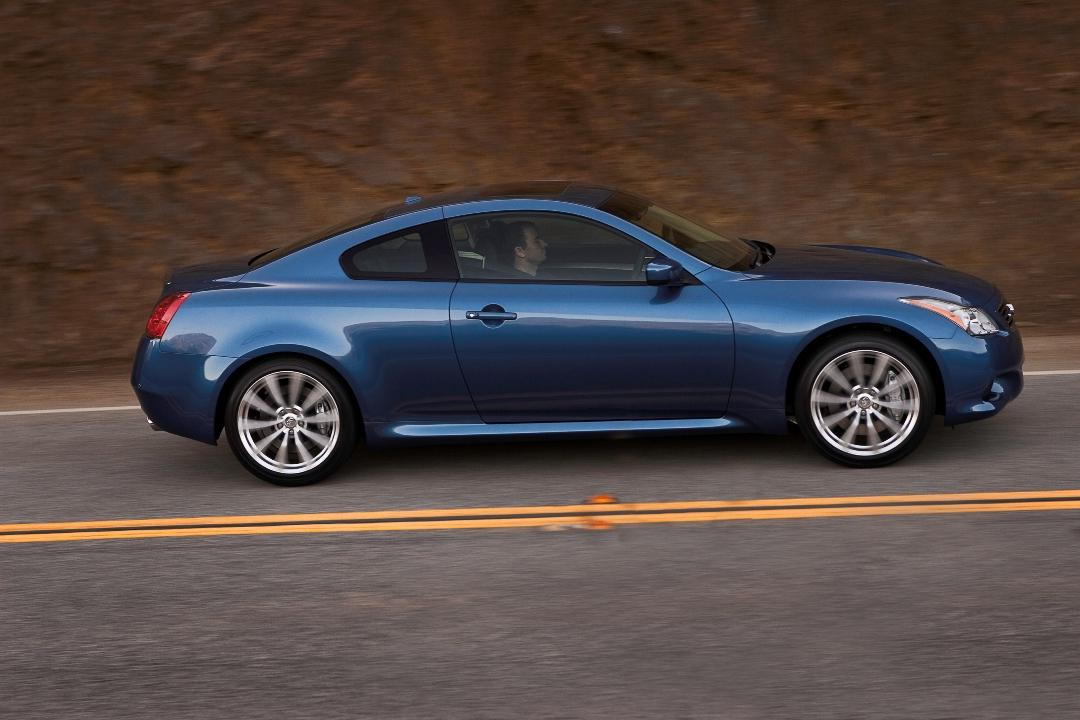Car: (103, 151, 1050, 524)
